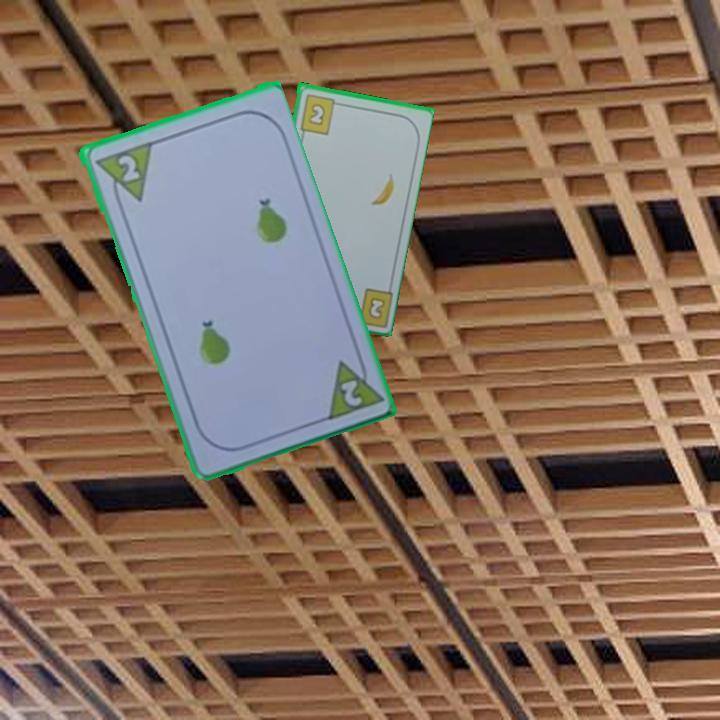2b: (296, 90, 343, 137), (364, 293, 388, 322)
2p: (320, 348, 384, 424), (90, 138, 154, 210)
